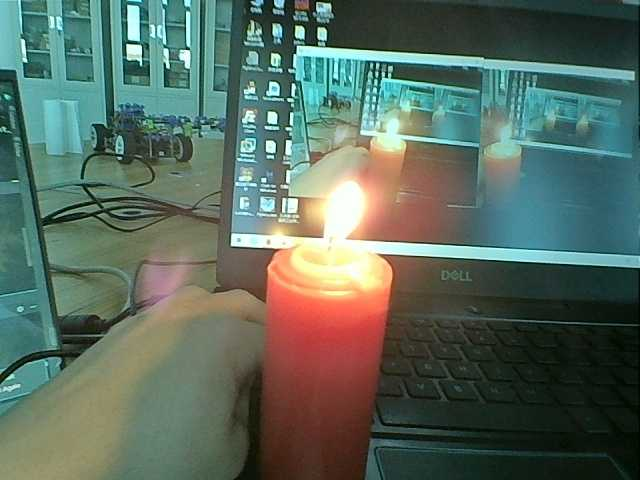candle: (252, 247, 383, 480), (367, 142, 405, 218), (480, 152, 525, 216)
fire: (320, 182, 364, 246), (497, 123, 515, 148), (381, 116, 399, 139)
